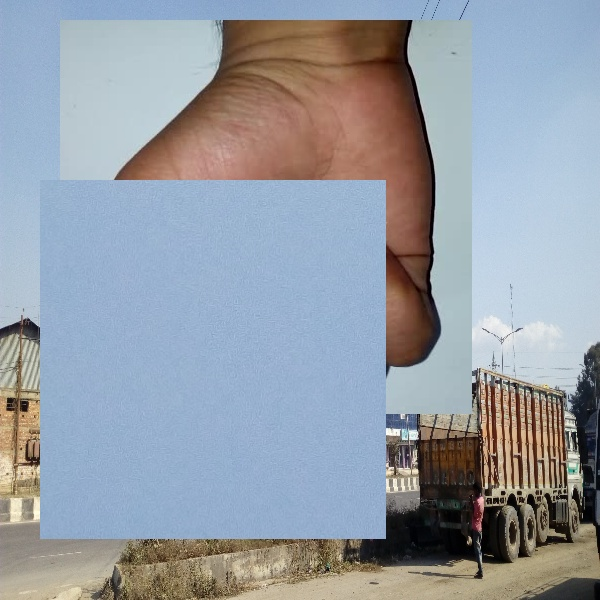A: (40, 180, 386, 539)
